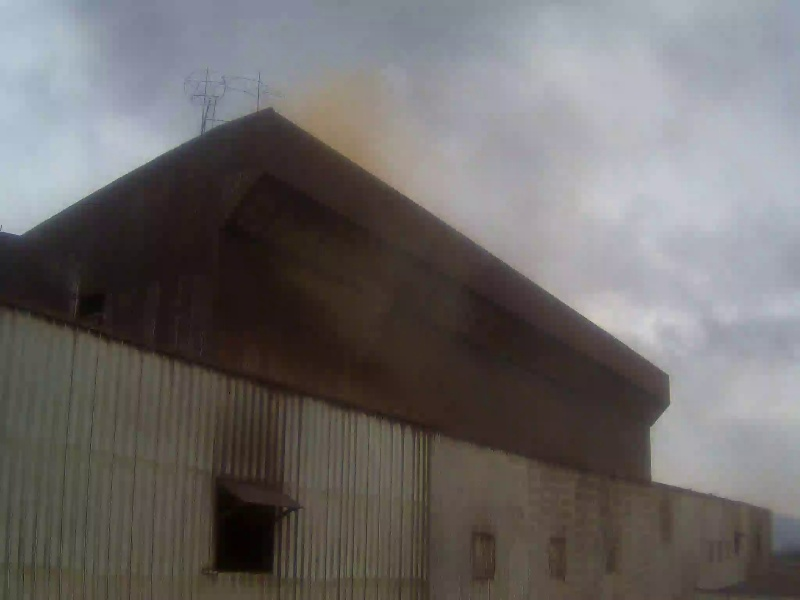bom: (575, 219, 729, 383)
ruim: (299, 54, 486, 354)
